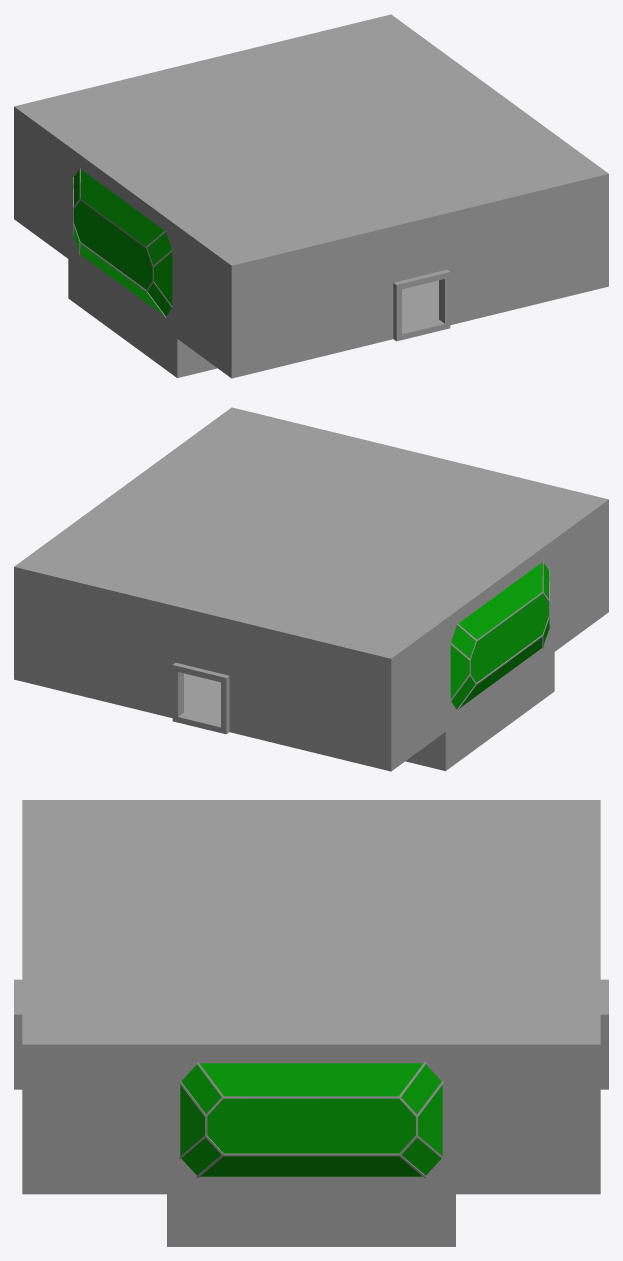
File: Workshop.fbx
3 renders of one model, top to bottom at view 1: azimuth 30°, elevation 25°; view 2: azimuth 150°, elevation 25°; view 3: azimuth 270°, elevation 25°, orthographic. The views are drawn at different scales.
Parts seen in each view (by area): view 1: Workshop_Room, Window2; view 2: Workshop_Room, Window2; view 3: Workshop_Room, Window1.
Boxes of the visible parts, x1,y1,x2,y2 form: Workshop_Room: [14, 14, 608, 378]; Window2: [72, 168, 172, 317]; Workshop_Room: [14, 407, 608, 771]; Window2: [450, 561, 550, 710]; Workshop_Room: [14, 800, 608, 1246]; Window1: [179, 1062, 443, 1177].
Size of the model in its own units: 0.3684 by 0.135 by 0.36.
